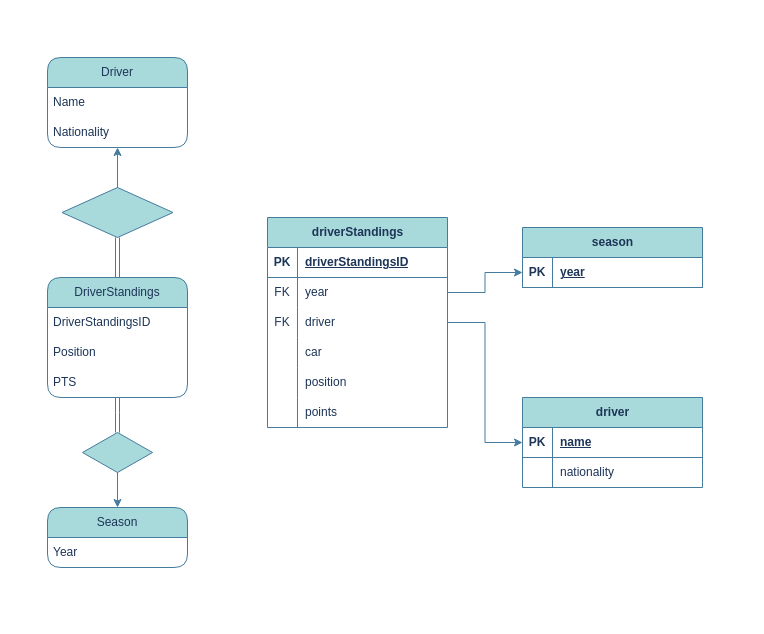
Image size: 764x634. Some labels were removed from this diagram. Here are the shapes that lost their labels. From the top down, the box of each, then its label:
(61, 186, 173, 238): corresponds
(82, 432, 152, 472): has
